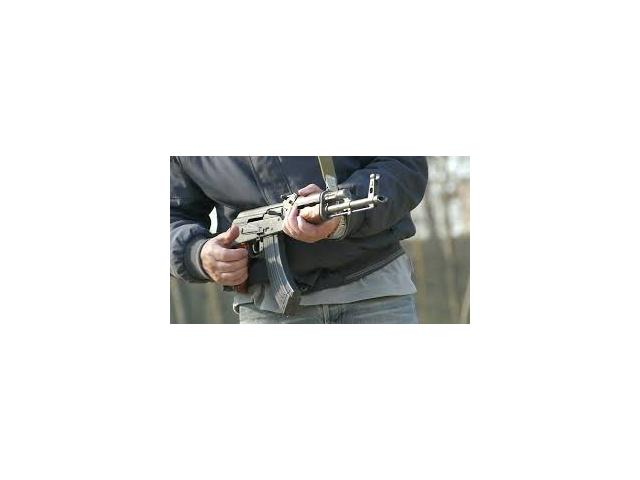rifle: (208, 175, 389, 319)
